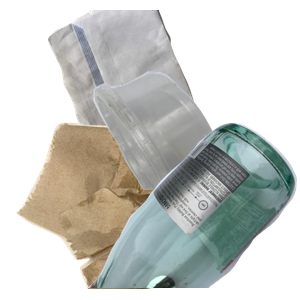glass: (86, 120, 300, 300)
paper: (45, 10, 251, 190)
plastic: (91, 69, 300, 249)
trash: (14, 120, 222, 300)
